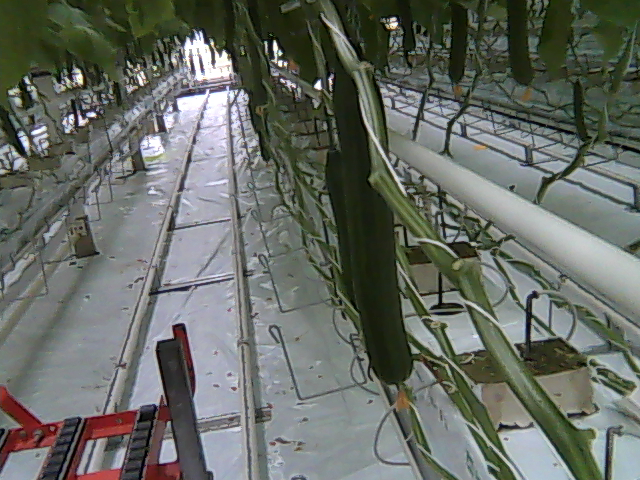concombre: (330, 35, 419, 418)
